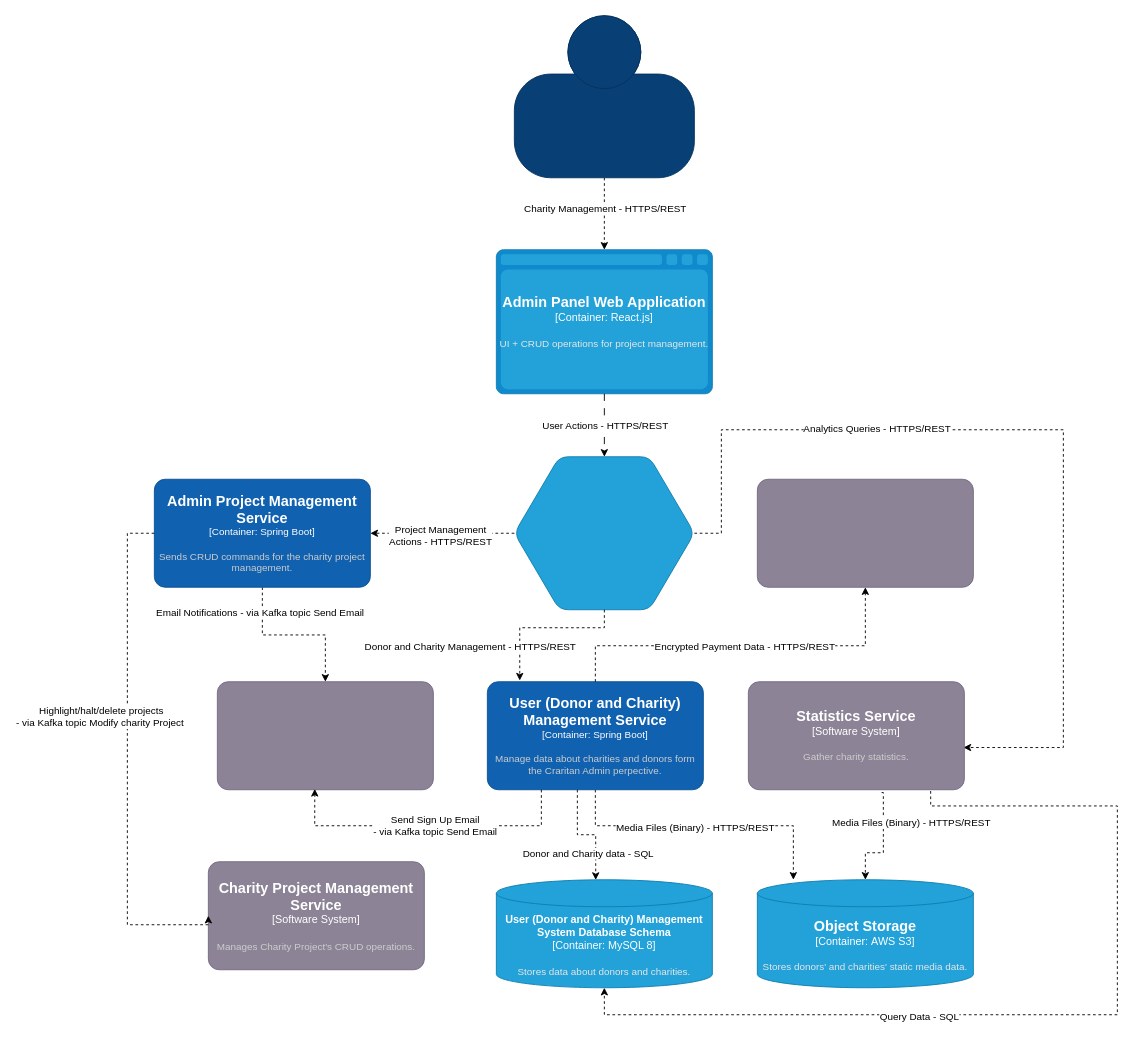
The diagram is 1140 pixels wide and 1038 high, and some of its shapes have lost their labels. Each missing label, with the centre of its shape:
API Gateway [Container: Nginx] Routing between project management services.: pixel 603 533
Charity Admin [Person] Description of person.: pixel 603 96
Email Notification Service [Software System] Sends emails to end users.: pixel 324 735
External payment provider [Container: Stripe] Processes dontaions.: pixel 864 532
